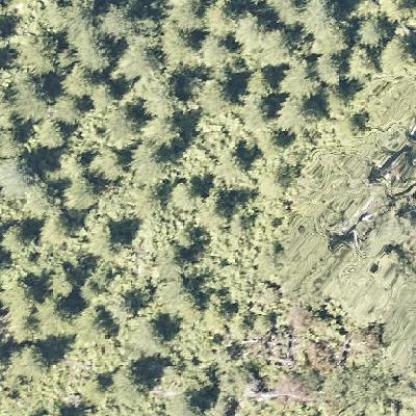tree-top: (113, 36, 162, 77), (9, 341, 50, 382), (277, 93, 321, 129), (377, 39, 415, 77), (193, 32, 233, 68), (193, 77, 231, 113), (89, 146, 126, 182), (309, 51, 349, 83), (76, 304, 114, 337), (166, 177, 203, 210), (60, 178, 97, 211), (143, 112, 177, 147), (49, 93, 85, 122), (62, 62, 94, 94), (356, 14, 387, 44)
